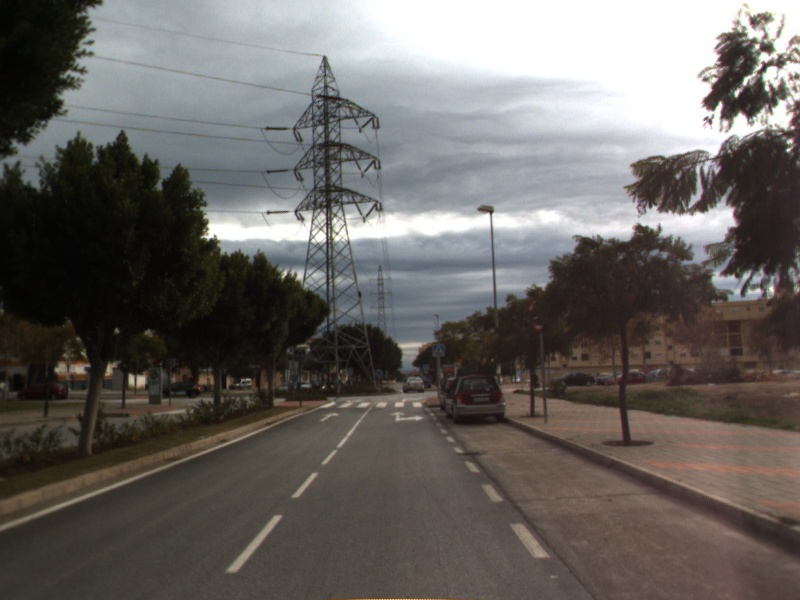STRAIGHT: (317, 410, 341, 424)
STRAIGHT_RIGHT: (388, 409, 426, 423)
